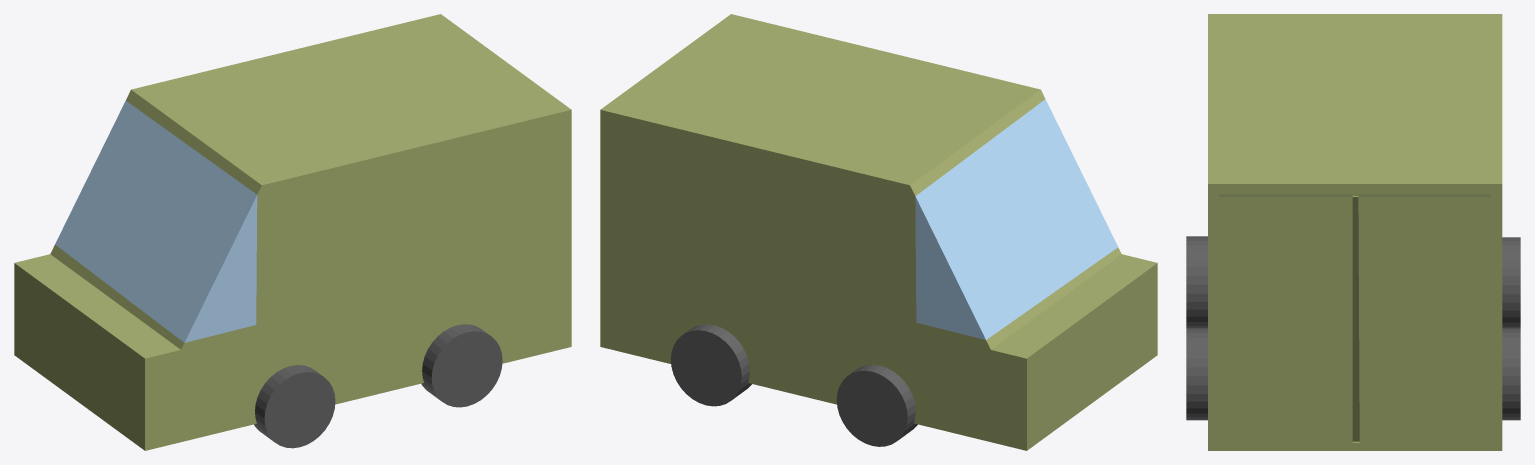
Rendered from shipping_truck (1).fbx.
The picture shows the model from 3 angles, left to right: view 1: azimuth 30°, elevation 25°; view 2: azimuth 150°, elevation 25°; view 3: azimuth 270°, elevation 25°; orthographic projection. The views are drawn at different scales.
Parts seen in each view (by area): view 1: Cube.002, Circle; view 2: Cube.002, Circle; view 3: Cube.002, Circle.
Part boxes in pixels (x1,y1,x2,y2): Cube.002: (14, 14, 571, 450); Circle: (254, 324, 502, 448); Cube.002: (600, 14, 1157, 450); Circle: (670, 324, 917, 446); Cube.002: (1208, 14, 1502, 450); Circle: (1186, 236, 1520, 420).
Size of the model in its own units: 664 by 386 by 397.
